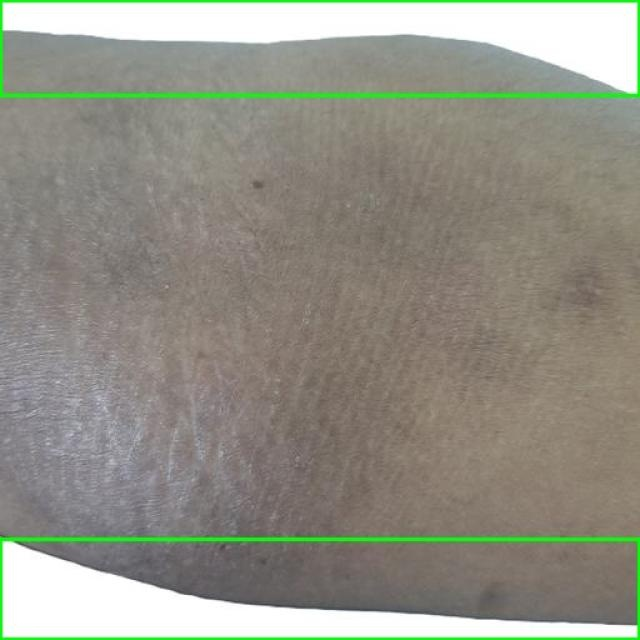Contact Dermatitis: (0, 539, 639, 639), (0, 0, 639, 95)
